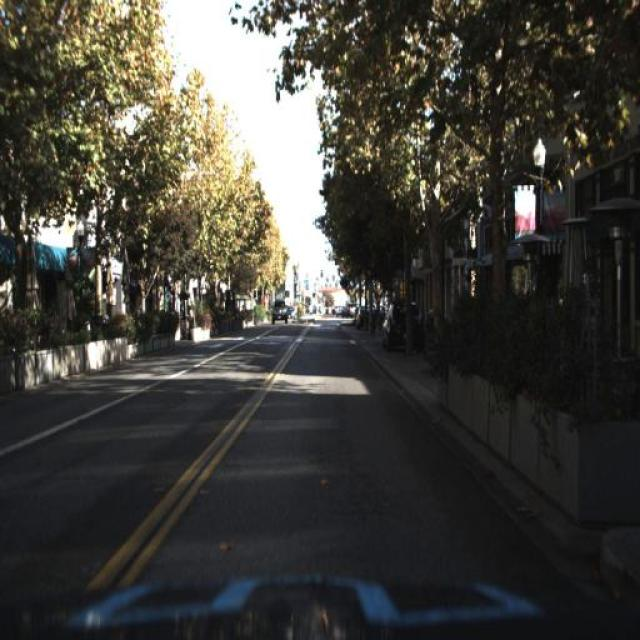car: (380, 295, 426, 350), (266, 296, 290, 330), (266, 298, 289, 332)
